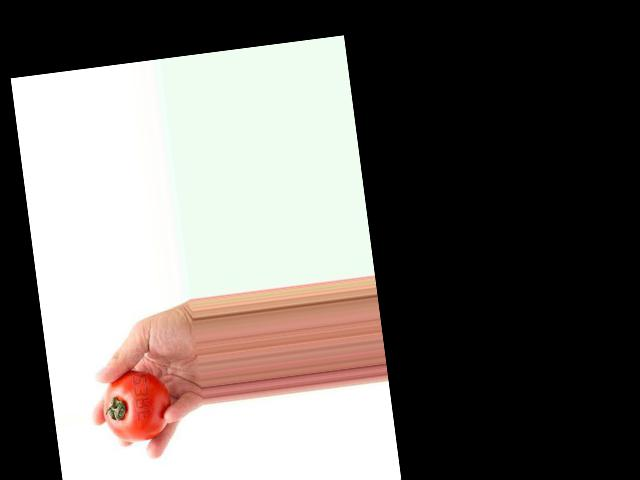tomato: (98, 367, 175, 446)
